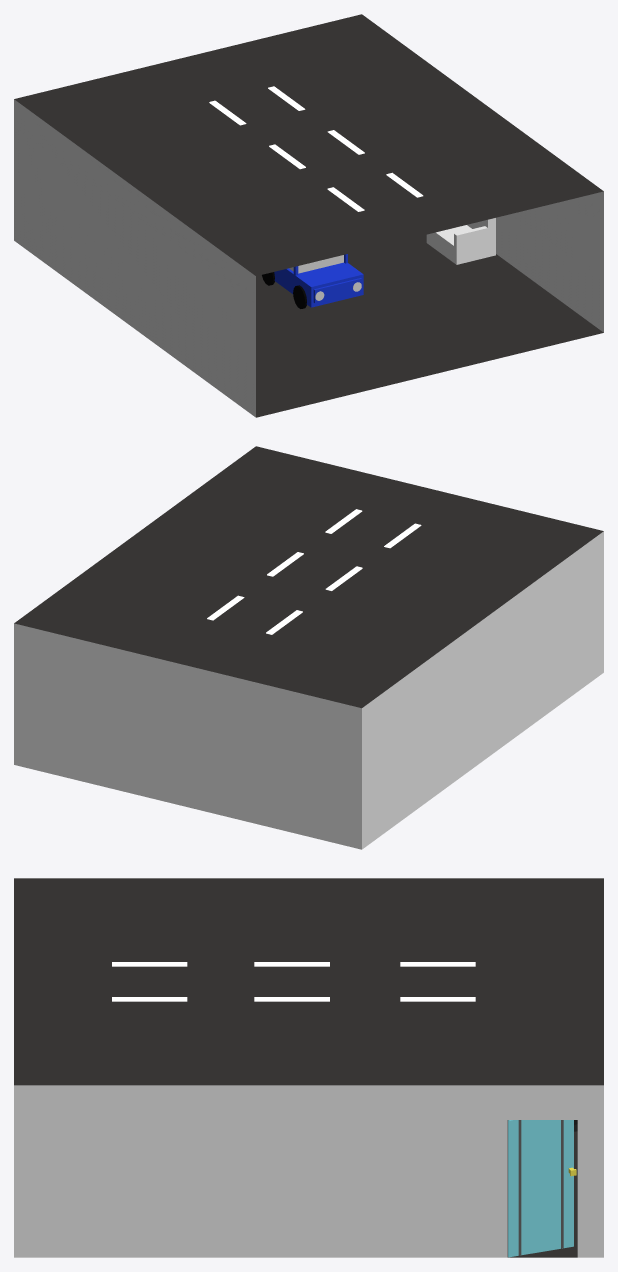
File: garage.glb
3 views of the same model, one above another, from view 1: azimuth 30°, elevation 25°; view 2: azimuth 150°, elevation 25°; view 3: azimuth 270°, elevation 25° (orthographic). The views are drawn at different scales.
Parts seen in each view (by area): view 1: tempat_16, mobil_15, Plane.001_30, sofa_28, lampu_24; view 2: tempat_16, lampu_24; view 3: tempat_16, pintu_22, lampu_24.
Boxes of the visible parts, x1,y1,x2,y2 form: tempat_16: [14, 14, 603, 417]; mobil_15: [262, 254, 363, 308]; Plane.001_30: [510, 198, 576, 262]; sofa_28: [426, 218, 495, 264]; lampu_24: [209, 86, 423, 211]; tempat_16: [14, 446, 603, 849]; lampu_24: [207, 509, 421, 634]; tempat_16: [14, 878, 603, 1257]; pintu_22: [508, 1120, 576, 1257]; lampu_24: [112, 962, 475, 1001].
Bounding box in the file's own units: 17.9 × 6.97 × 21.48.
